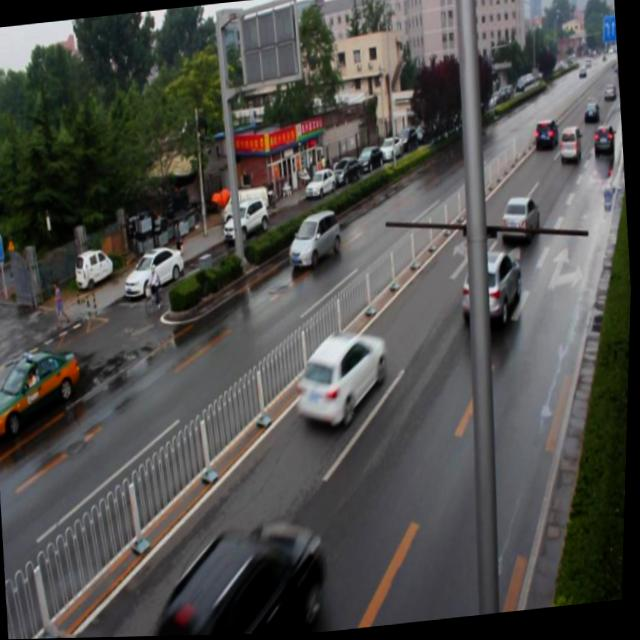car: (151, 513, 332, 637), (297, 328, 393, 435), (457, 246, 525, 333), (287, 208, 343, 267), (498, 194, 540, 248), (593, 126, 611, 157)
truck: (557, 129, 581, 165), (532, 120, 558, 153)
